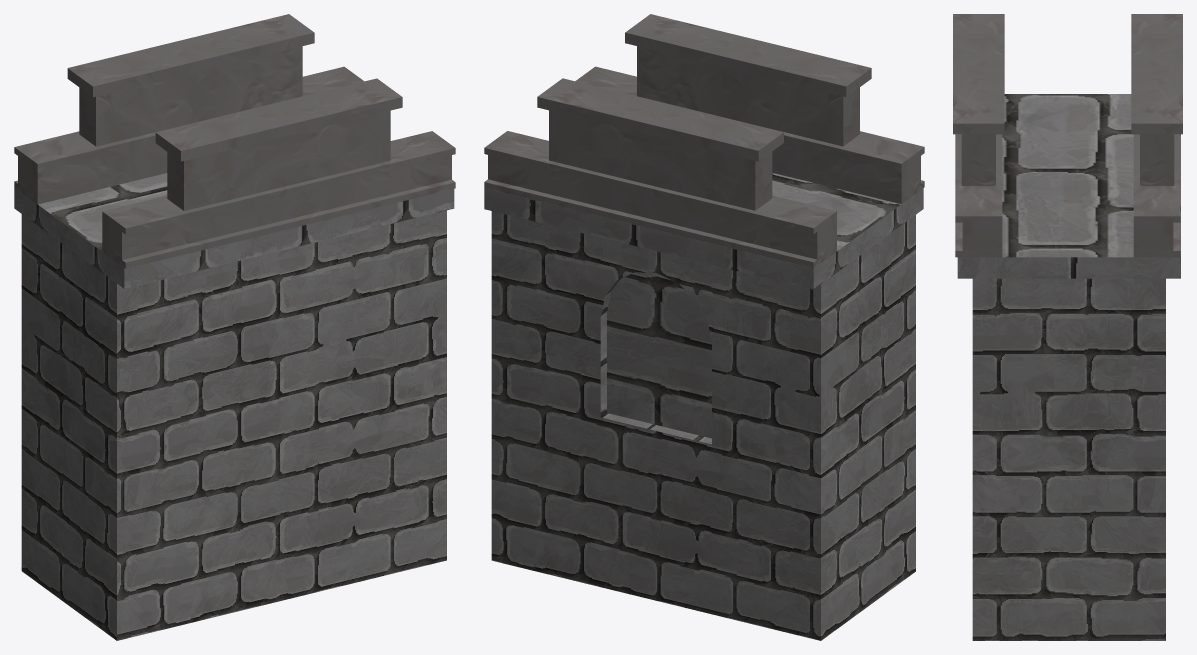
Rendered from wall00.fbx.
3 views of the same model, side by side, from view 1: azimuth 30°, elevation 25°; view 2: azimuth 150°, elevation 25°; view 3: azimuth 270°, elevation 25° (orthographic).
Visible parts, largest first — view 1: Cube.002; view 2: Cube.002; view 3: Cube.002.
Part boxes in pixels (x1,y1,x2,y2): Cube.002: (14, 14, 455, 640); Cube.002: (484, 14, 924, 640); Cube.002: (953, 14, 1182, 640).
Size of the model in its own units: 400 by 238 by 560.
